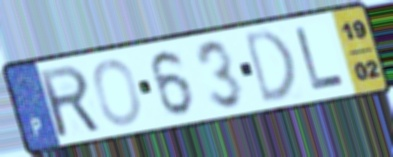3: (194, 36, 246, 112)
6: (149, 48, 197, 118)
D: (241, 26, 299, 108)
L: (293, 24, 348, 94)
O: (91, 57, 144, 128)
R: (35, 62, 105, 141)
